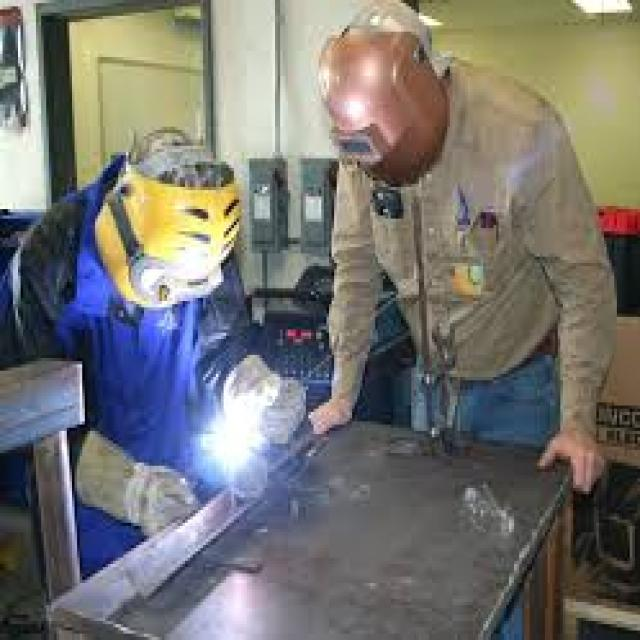welding: (206, 419, 262, 472)
